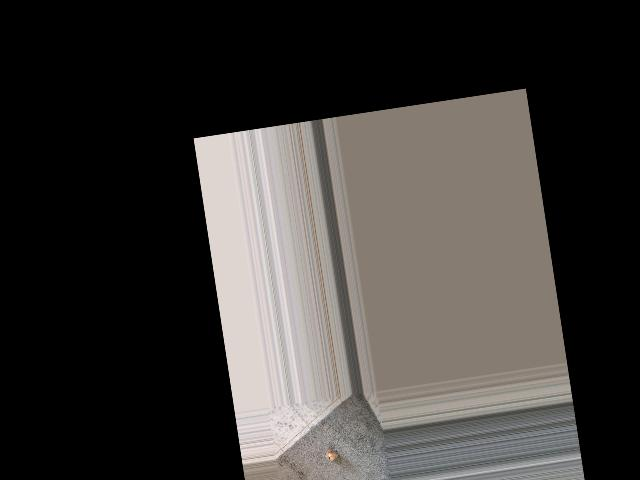onion: (324, 445, 343, 463)
